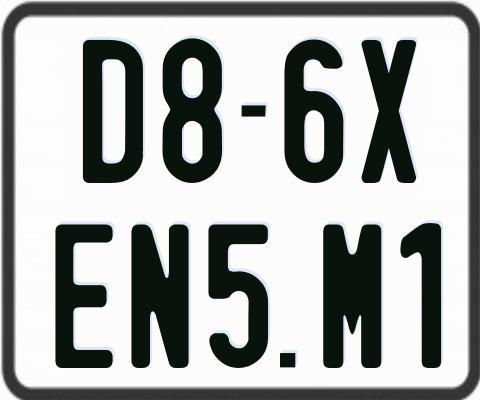1: (399, 223, 445, 370)
5: (205, 222, 270, 369)
6: (281, 40, 345, 186)
8: (162, 37, 228, 185)
D: (83, 37, 145, 184)
E: (53, 223, 111, 373)
M: (322, 224, 386, 370)
N: (128, 223, 187, 371)
X: (359, 39, 419, 186)
